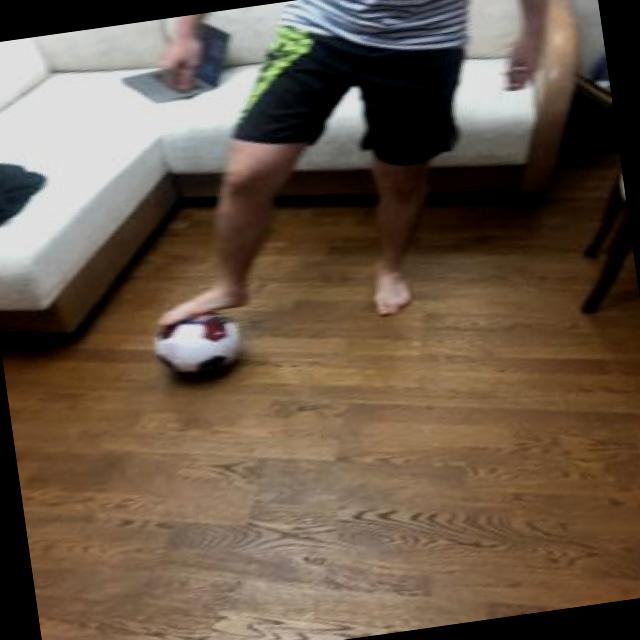Soccer Ball: (145, 305, 243, 382)
